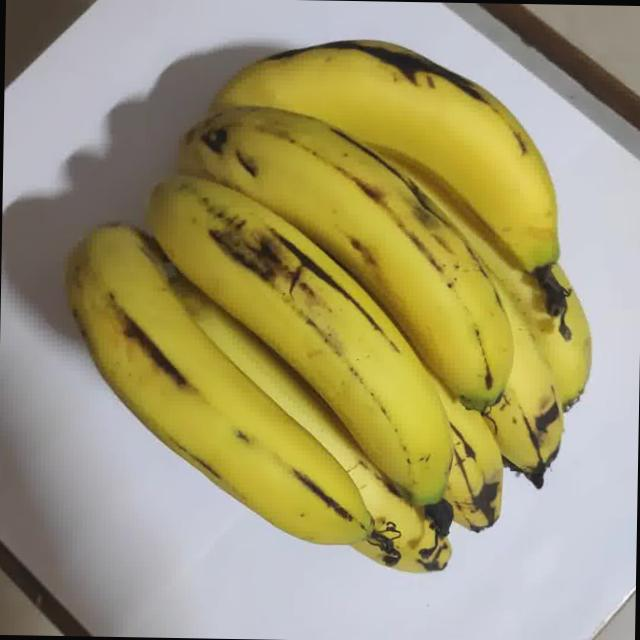banana_pacche: (9, 6, 635, 634)
